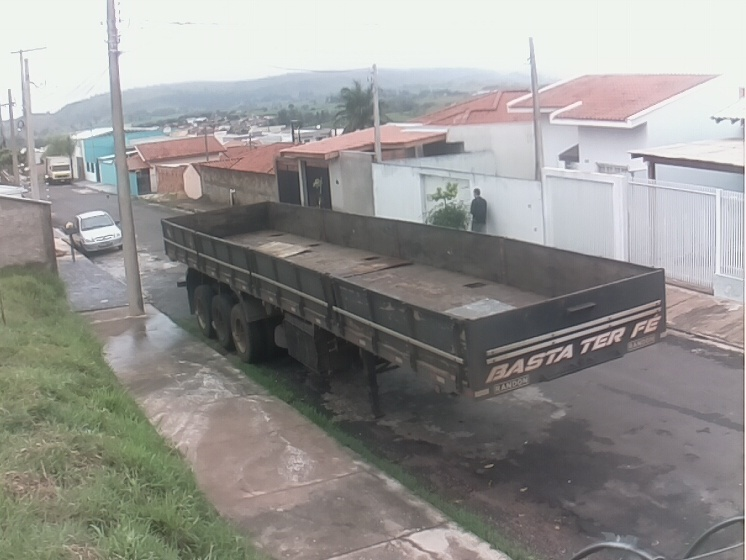person: (467, 186, 490, 236)
